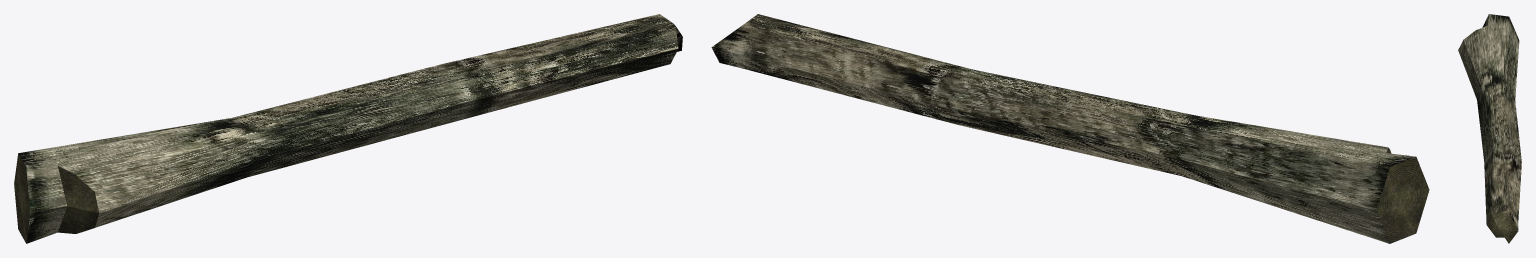
The model's file is ITMW_010_1H_CLUB_01.glb.
3 views of the same model, side by side, from view 1: azimuth 30°, elevation 25°; view 2: azimuth 150°, elevation 25°; view 3: azimuth 270°, elevation 25° (orthographic). The views are drawn at different scales.
Parts seen in each view (by area): view 1: ITMW_010_1H_CLUB_01; view 2: ITMW_010_1H_CLUB_01; view 3: ITMW_010_1H_CLUB_01.
Boxes of the visible parts, x1,y1,x2,y2 form: ITMW_010_1H_CLUB_01: (14, 14, 682, 243); ITMW_010_1H_CLUB_01: (711, 14, 1429, 243); ITMW_010_1H_CLUB_01: (1458, 14, 1521, 243).
Bounding box in the file's own units: 0.7329 × 0.0787 × 0.1007.
2 materials, 2 textured.
